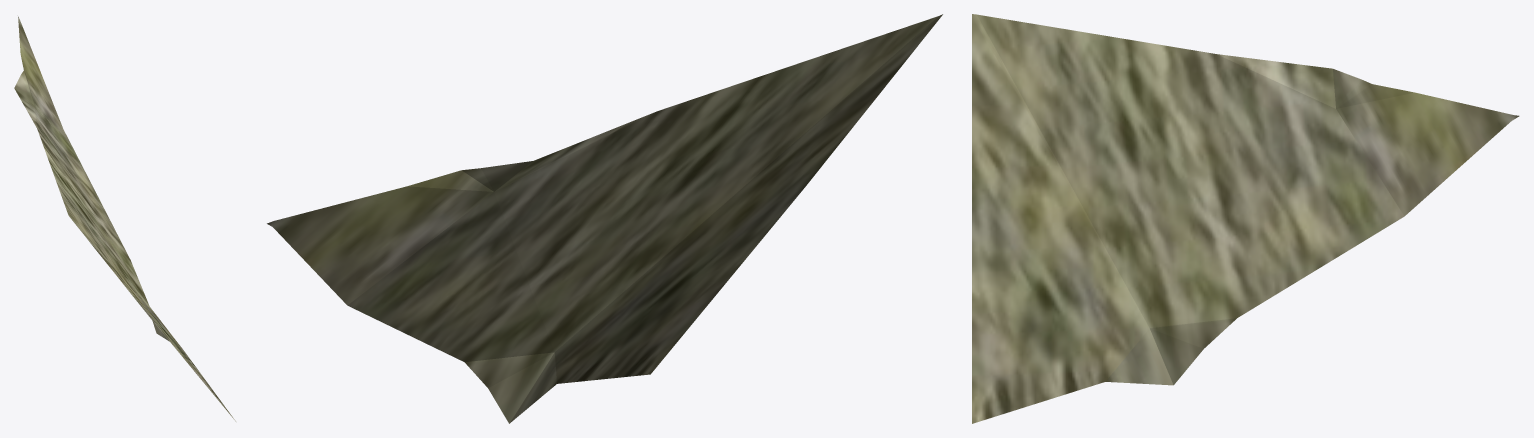
The picture shows the model from 3 angles, left to right: view 1: azimuth 30°, elevation 25°; view 2: azimuth 150°, elevation 25°; view 3: azimuth 270°, elevation 25°; orthographic projection. The views are drawn at different scales.
Size of the model in its own units: 1.05 by 1.47 by 2.38.
Materials: 1 (1 with a texture image).
